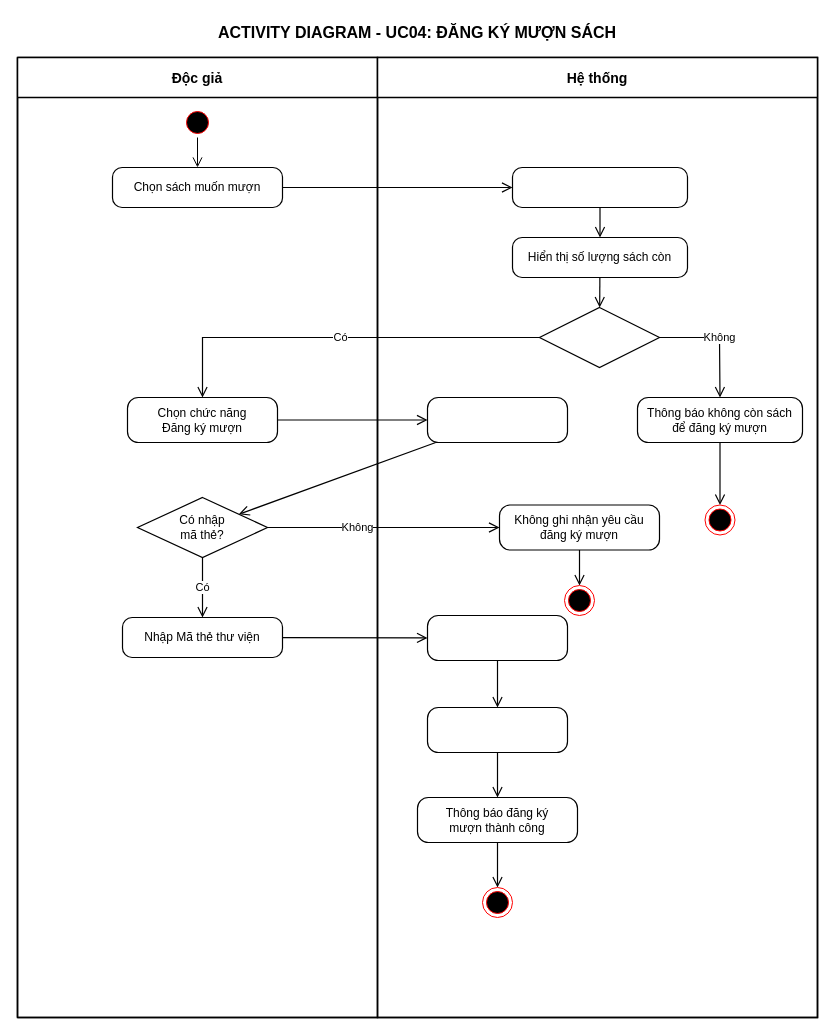
Image size: 836x1035. Some labels were removed from this diagram. The shapes that lost their labels are listed below. From the top down, each one's centre as x and y in pixels, then its label:
At [599,187]: "Hiển thị thông tin sách".
At [599,337]: "Còn sách?".
At [497,419]: "Yêu cầu nhập Mã thẻ thư viện".
At [497,637]: "Tiếp nhận Mã thẻ thư viện".
At [497,729]: "Ghi nhận yêu cầu đăng ký mượn".
